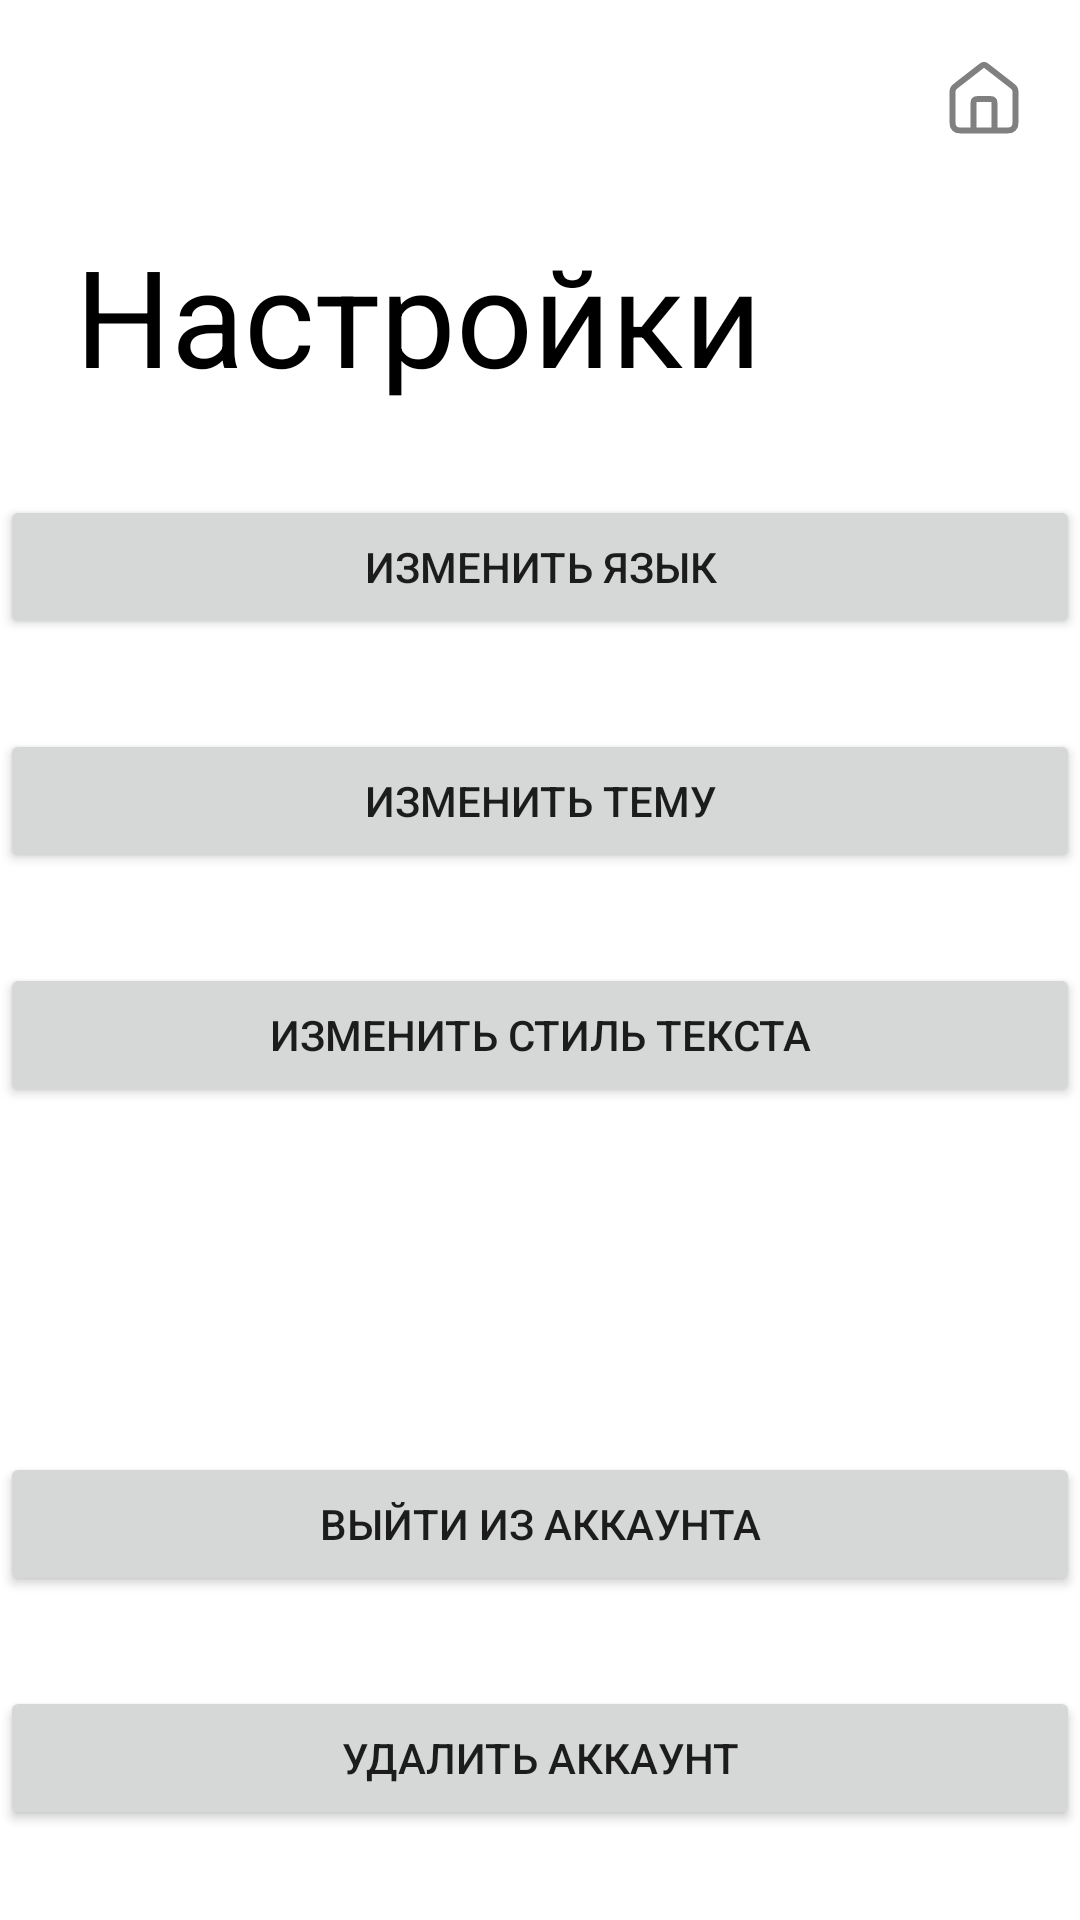

Screen size 1080 × 1920. Icon name, then its box in pixels as [x1=x1, y1=y1, x2=x2, y2=y2]:
home: [x1=949, y1=62, x2=1019, y2=134]
